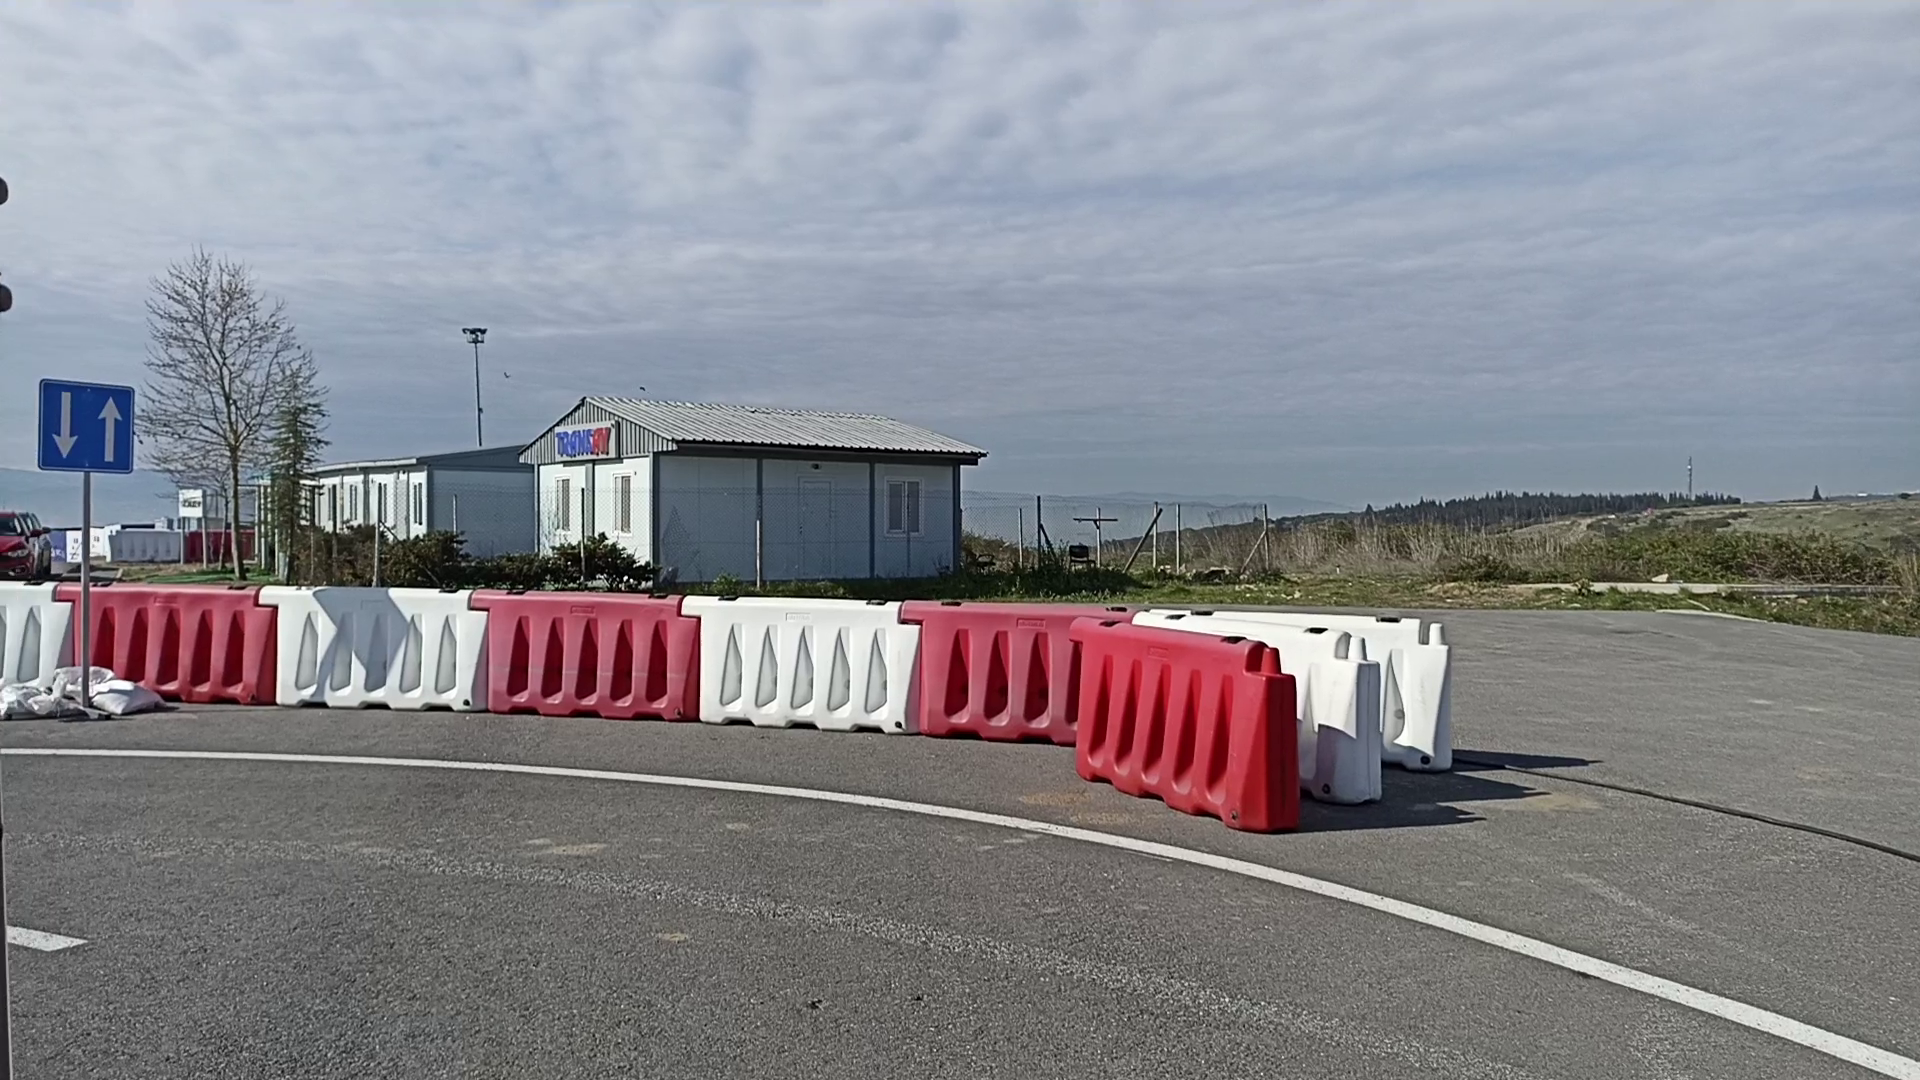oneway: (34, 376, 136, 476)
